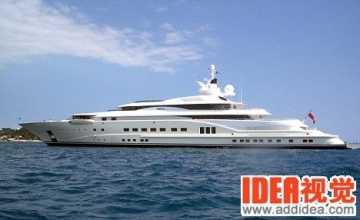yacht: (19, 72, 346, 144)
